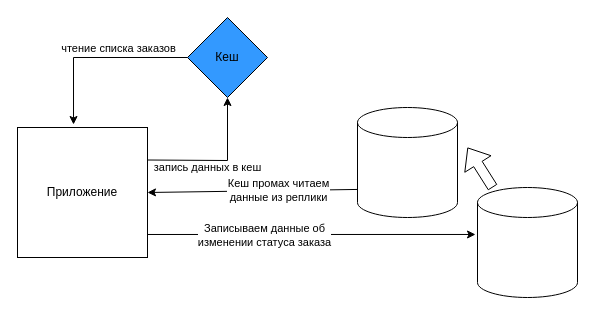
This 595x315 diagram has some shape labels left out. Here are the shapes that lost their labels. From the top down, the box of each, then its label:
(356, 106, 458, 218): Реплика БД сервиса
(476, 186, 578, 298): БД сервиса
